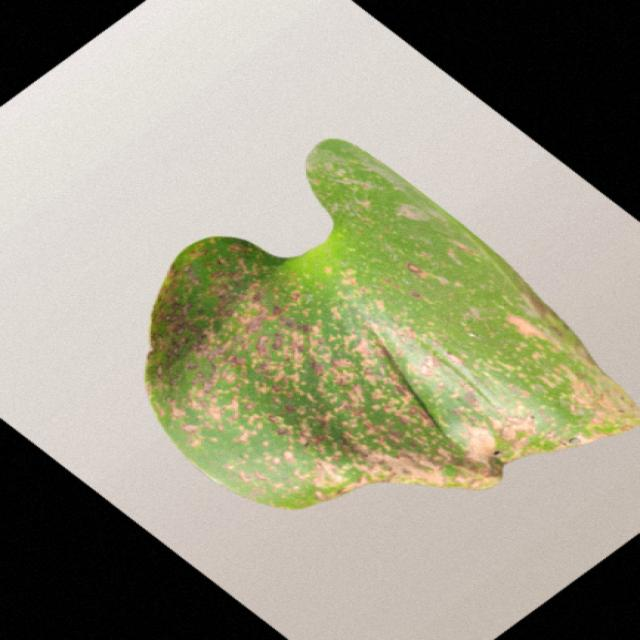daun berpenyakit bercak: (145, 141, 638, 509)
